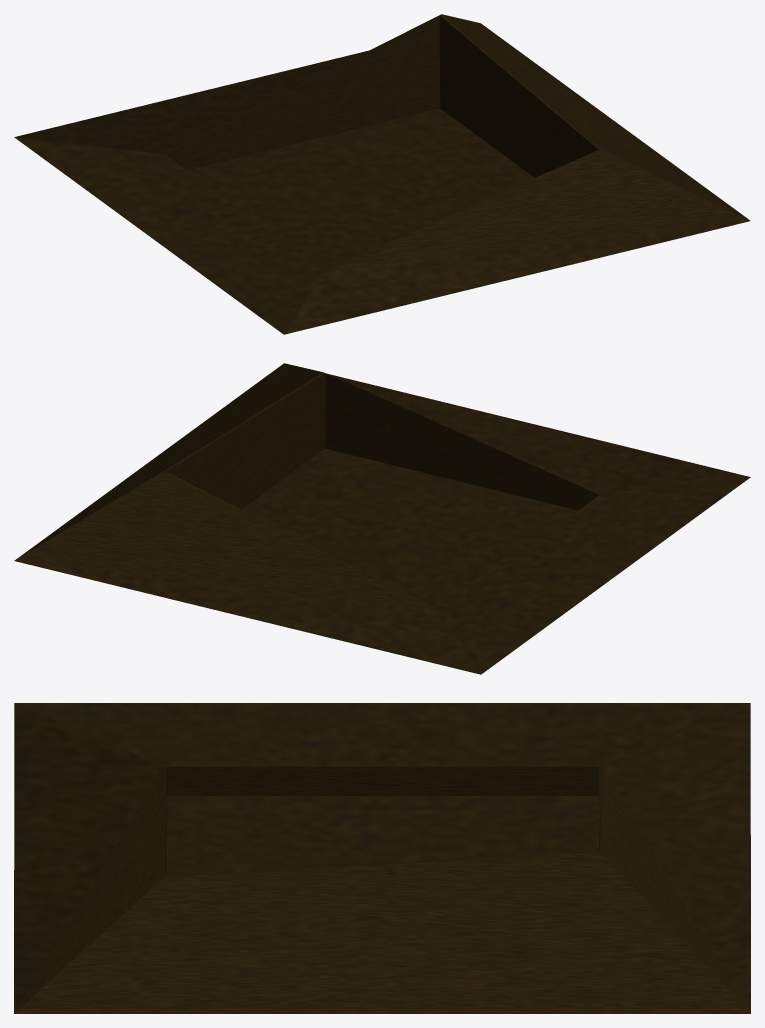
The model's file is ForestHole.fbx.
The picture shows the model from 3 angles, top to bottom: view 1: azimuth 30°, elevation 25°; view 2: azimuth 150°, elevation 25°; view 3: azimuth 270°, elevation 25°; orthographic projection. The views are drawn at different scales.
Parts seen in each view (by area): view 1: Forest.001; view 2: Forest.001; view 3: Forest.001.
Boxes of the visible parts, <box> form: Forest.001: <box>14,14,750,334</box>; Forest.001: <box>14,363,750,674</box>; Forest.001: <box>14,703,750,1013</box>.
Size of the model in its own units: 270 by 51.8 by 271.
